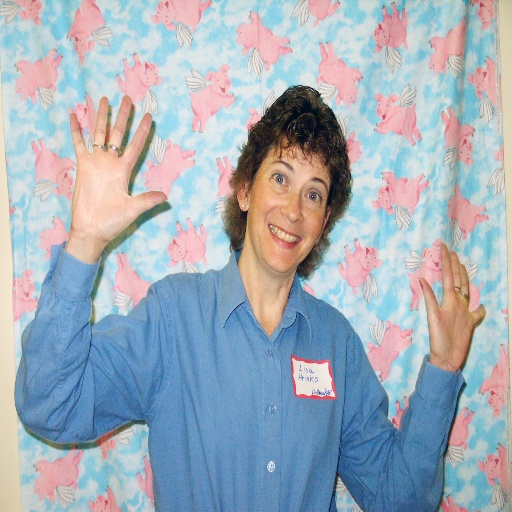hand: (68, 93, 167, 249), (413, 245, 480, 372)
